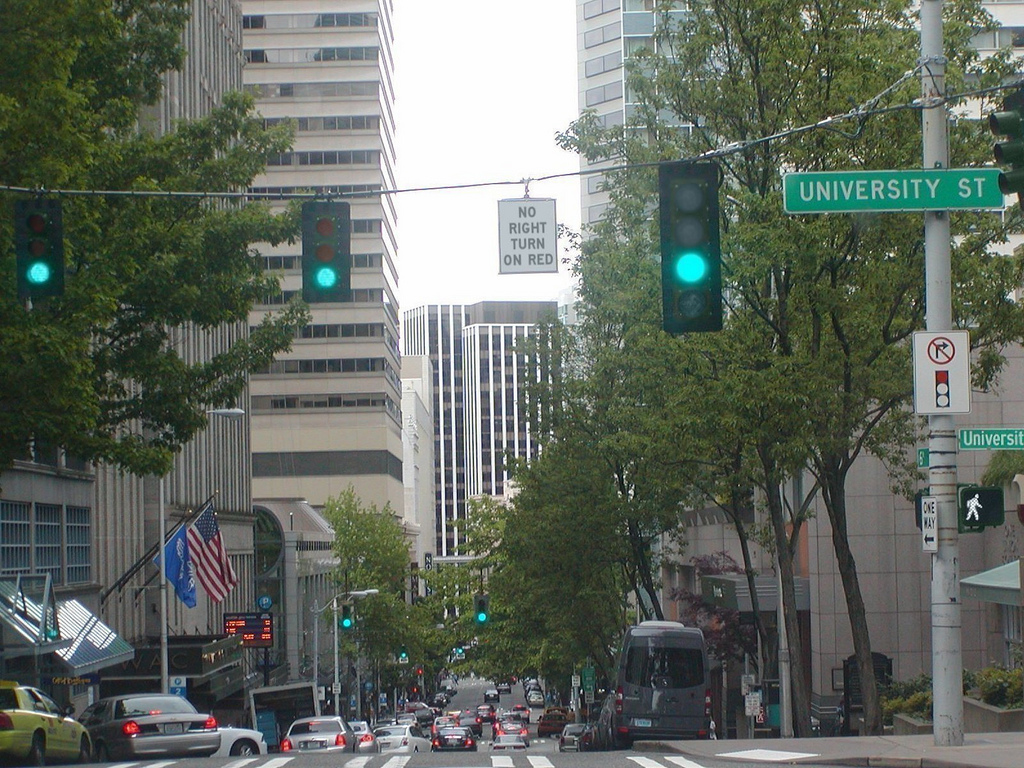traffic_light: (667, 176, 716, 323), (309, 212, 343, 293), (23, 210, 54, 288)
